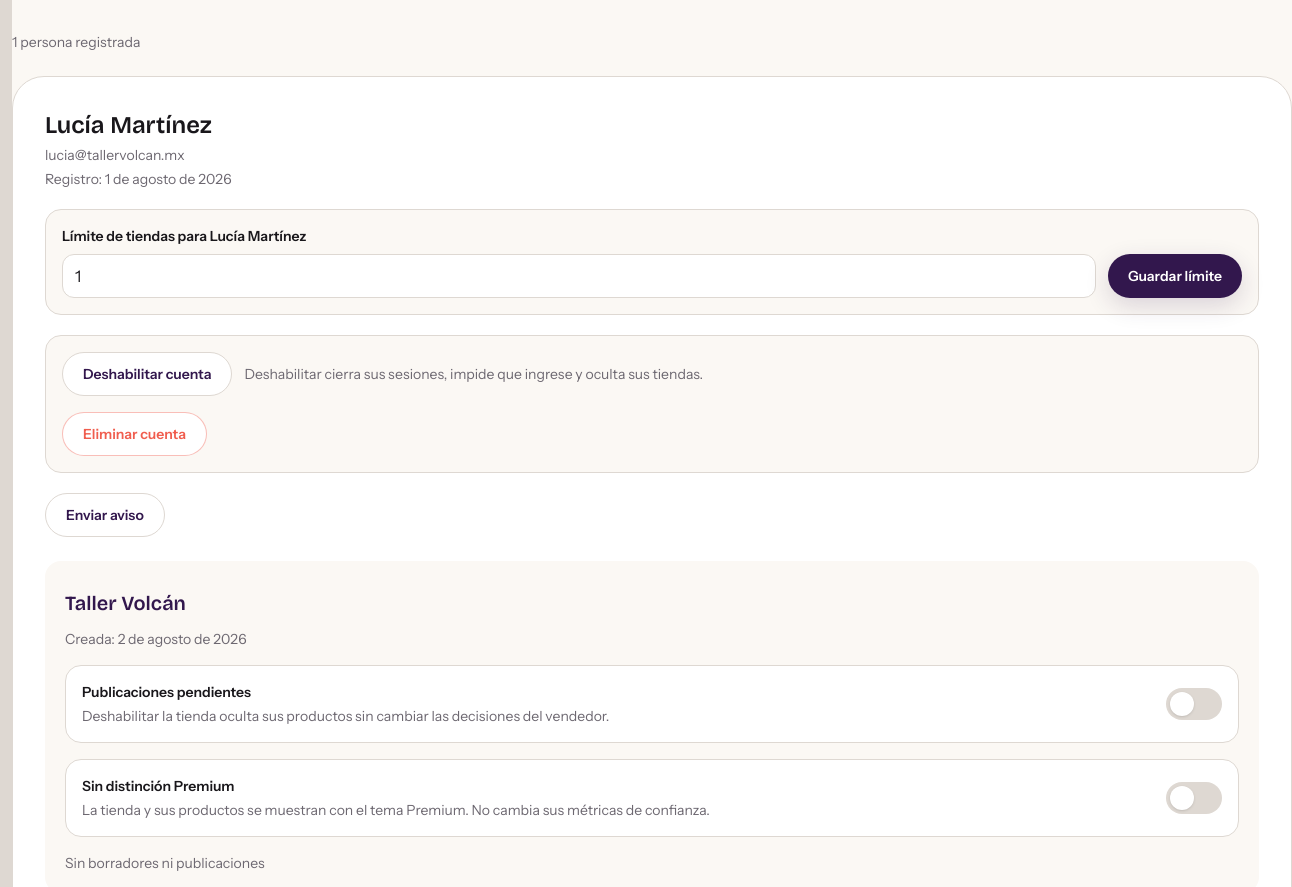
MarketplaceUsers › announces approval success returned by the server
This screenshot has width=1292, height=887.
Step 1. Click the switch named "Publicaciones habilitadas" in the row of "Publicaciones pendientes" → [1194, 704], box x1=1166 y1=688 x2=1222 y2=720
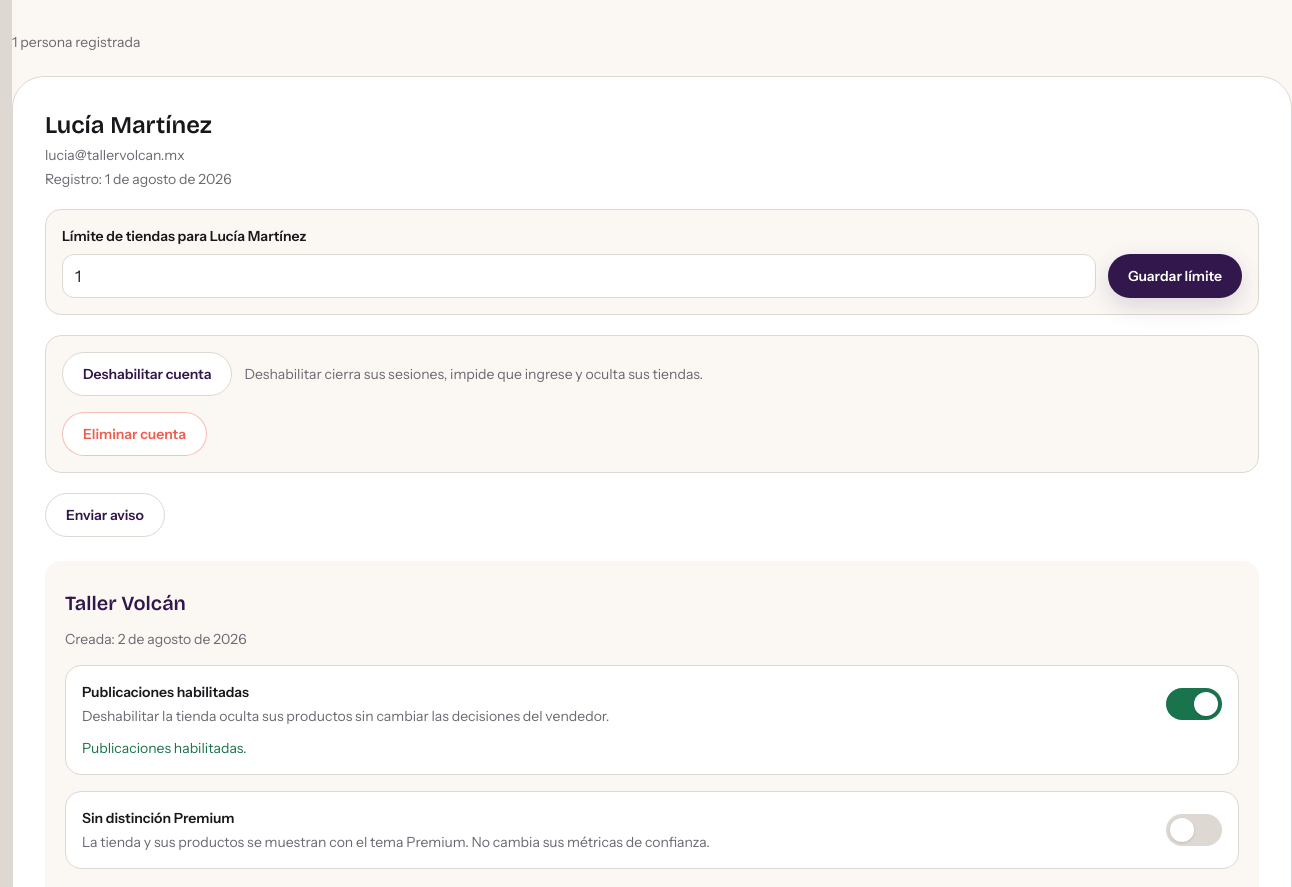
Now the 1st switch named "Publicaciones habilitadas" is checked, box x1=1166 y1=688 x2=1222 y2=720
Now the message reads "Publicaciones habilitadas.", box x1=82 y1=739 x2=247 y2=757
